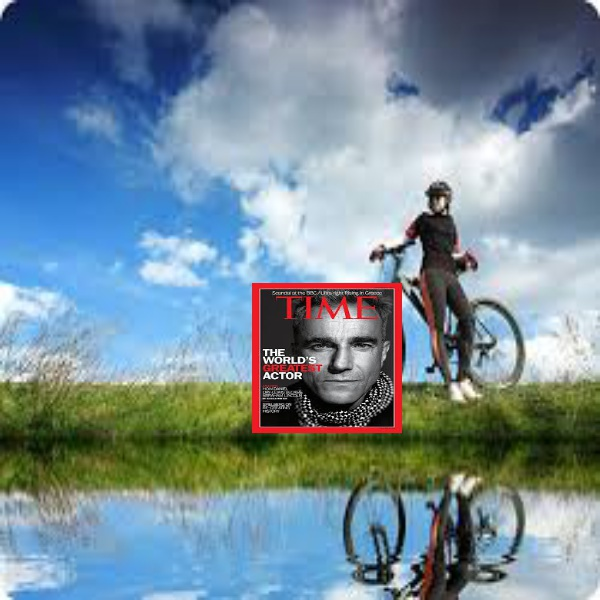time_cover: (247, 277, 411, 438)
